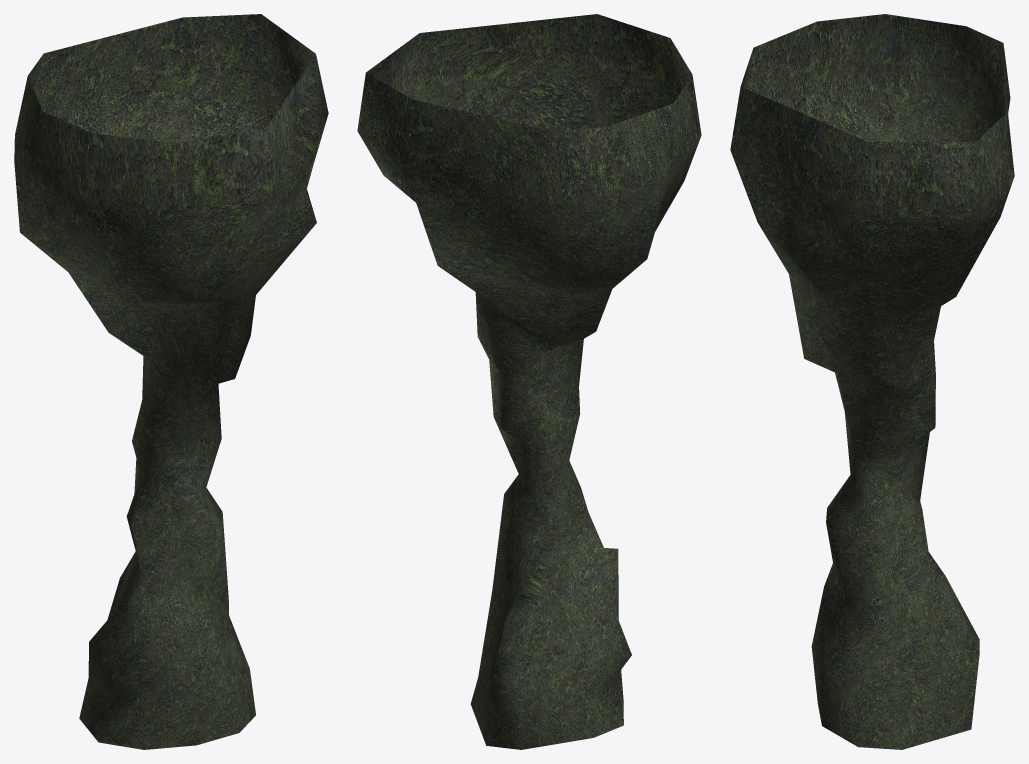
Rendered from rock_pillar_05_lod_01.fbx.
The picture shows the model from 3 angles, left to right: view 1: azimuth 30°, elevation 25°; view 2: azimuth 150°, elevation 25°; view 3: azimuth 270°, elevation 25°; orthographic projection.
Visible parts, largest first — view 1: rock_pillar_05; view 2: rock_pillar_05; view 3: rock_pillar_05.
Boxes of the visible parts, <box> form: rock_pillar_05: <box>14,14,328,749</box>; rock_pillar_05: <box>357,14,701,749</box>; rock_pillar_05: <box>730,14,1014,749</box>.
Size of the model in its own units: 56.77 by 124 by 49.51.
